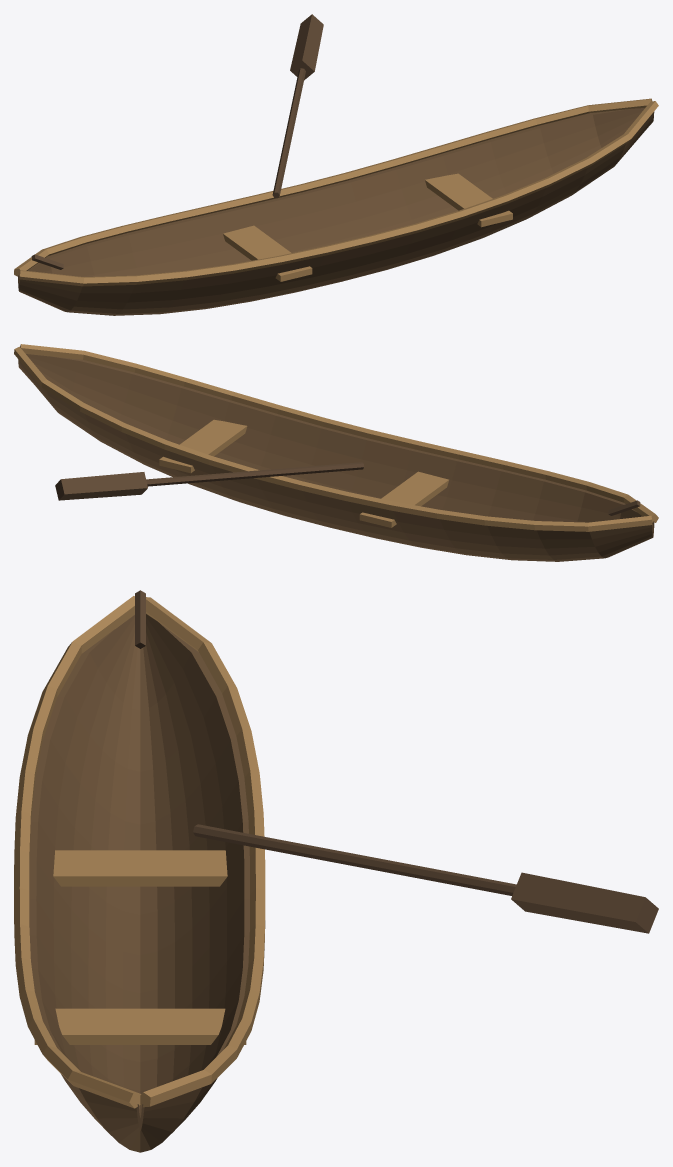
The model's file is decorativos-bote-canoa.glb.
3 renders of one model, top to bottom at view 1: azimuth 30°, elevation 25°; view 2: azimuth 150°, elevation 25°; view 3: azimuth 270°, elevation 25°, orthographic. The views are drawn at different scales.
Visible parts, largest first — view 1: bote_canoa_CascoBote, bote_canoa_MaderaClara, bote_canoa_MaderaOscura; view 2: bote_canoa_CascoBote, bote_canoa_MaderaClara, bote_canoa_MaderaOscura; view 3: bote_canoa_CascoBote, bote_canoa_MaderaClara, bote_canoa_MaderaOscura.
Part boxes in pixels (x1,y1,x2,y2): bote_canoa_CascoBote: (18,108,654,315); bote_canoa_MaderaClara: (14,98,658,286); bote_canoa_MaderaOscura: (31,14,323,269); bote_canoa_CascoBote: (18,354,654,561); bote_canoa_MaderaClara: (14,344,658,531); bote_canoa_MaderaOscura: (55,462,640,515); bote_canoa_CascoBote: (29,614,249,1152); bote_canoa_MaderaClara: (14,596,265,1108); bote_canoa_MaderaOscura: (135,590,658,933).
Bounding box in the file's own units: 4.43 × 0.8334 × 2.29.
